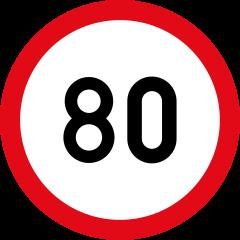Speed Limit -80-: (60, 67, 182, 176)
